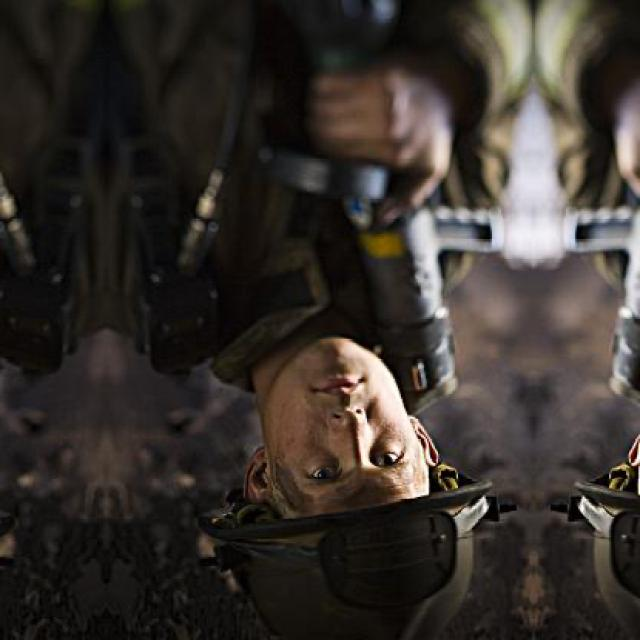con casco: (208, 370, 500, 620)
